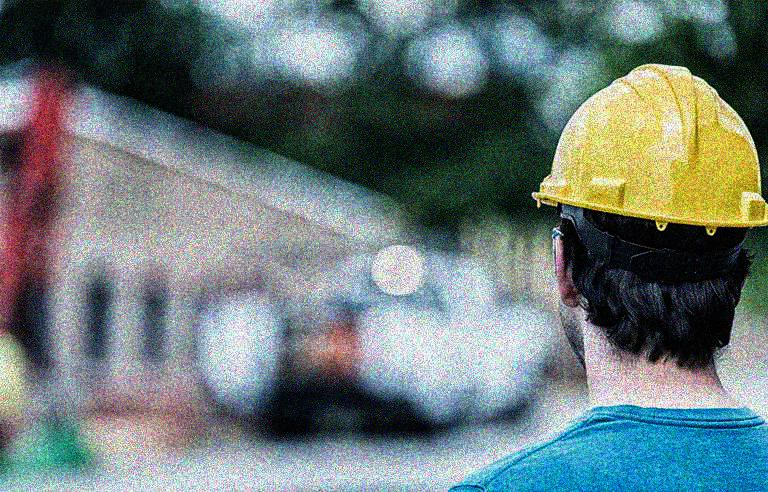helmet: (531, 62, 768, 364)
